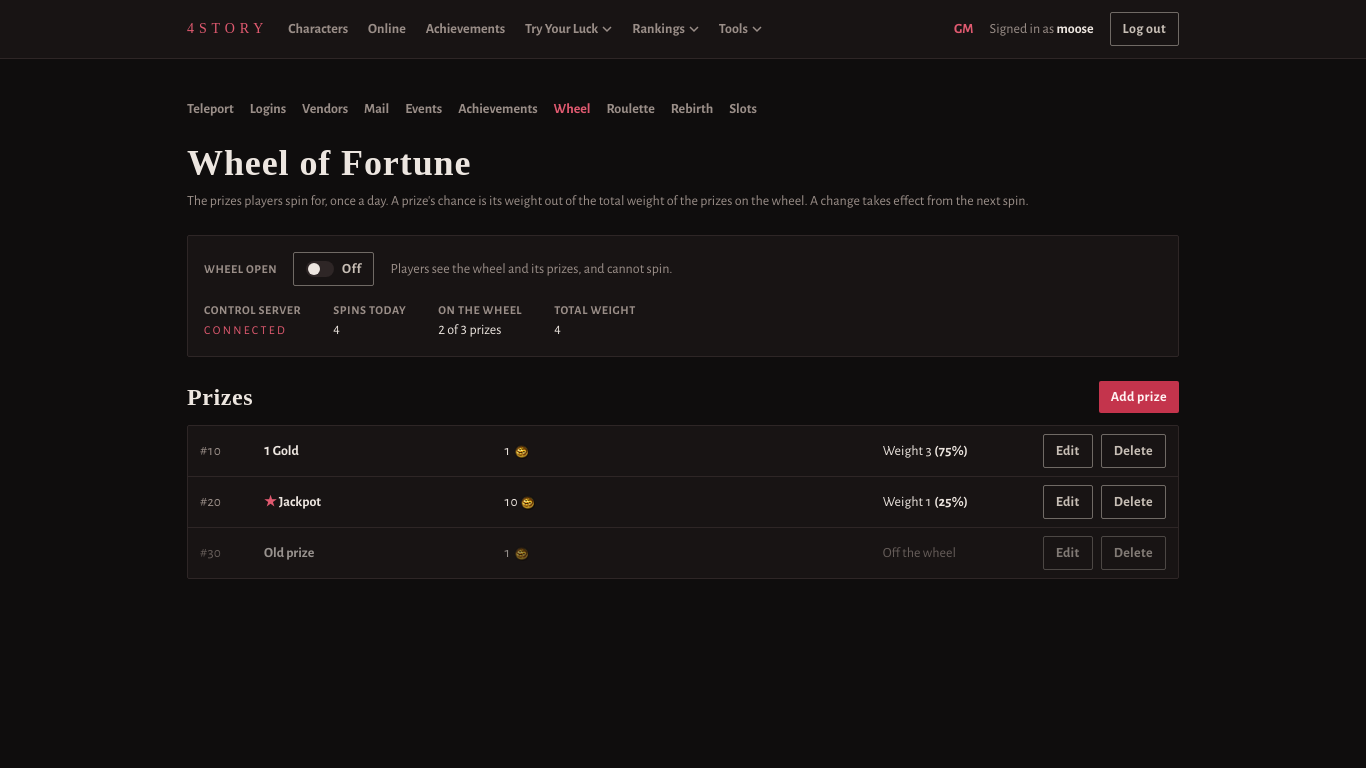
GM wheel page › opening the wheel › asks first, because players can spin straight away
Click the switch named "Wheel open". click: (334, 269)
box: [293,252,374,286]
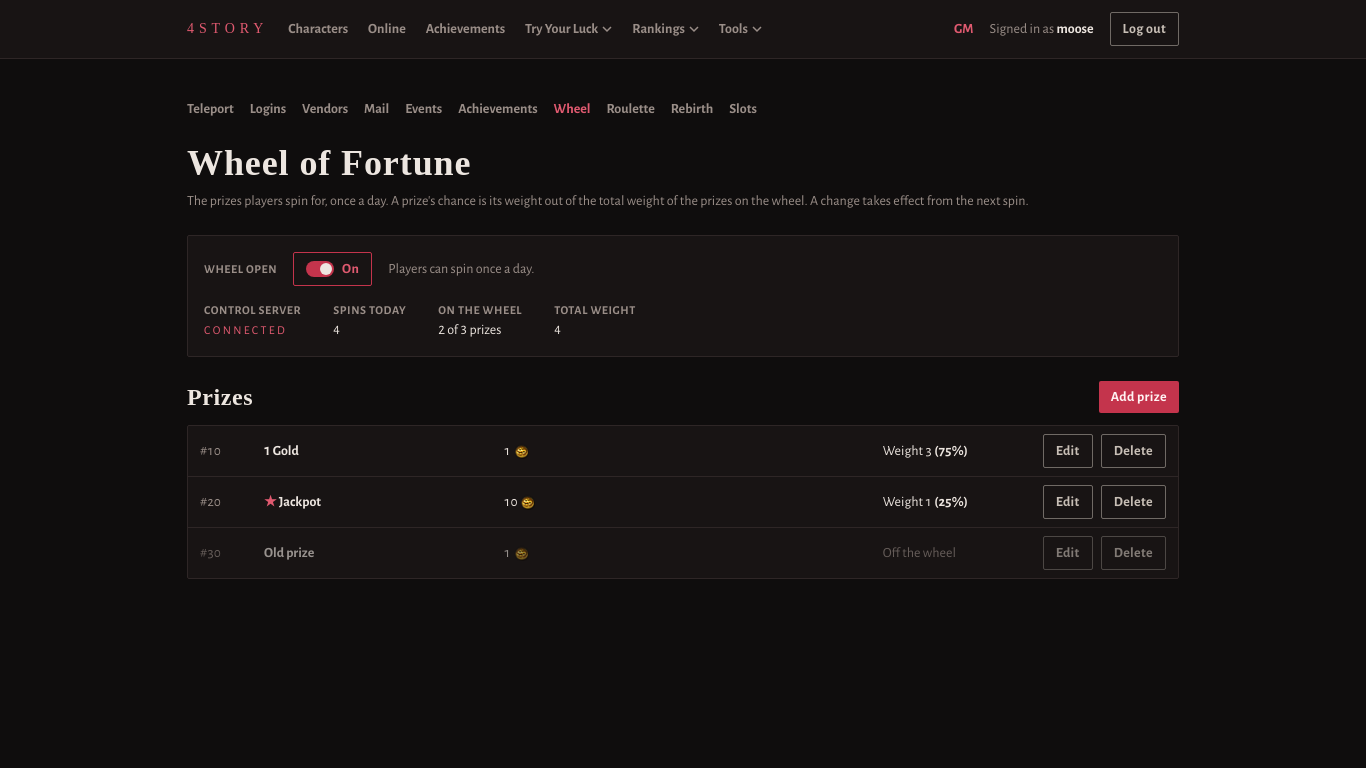
Check: the switch named "Wheel open" is checked, box [293,252,372,286]
Check: the text "Players can spin once a day." is shown, box [388,259,534,279]
